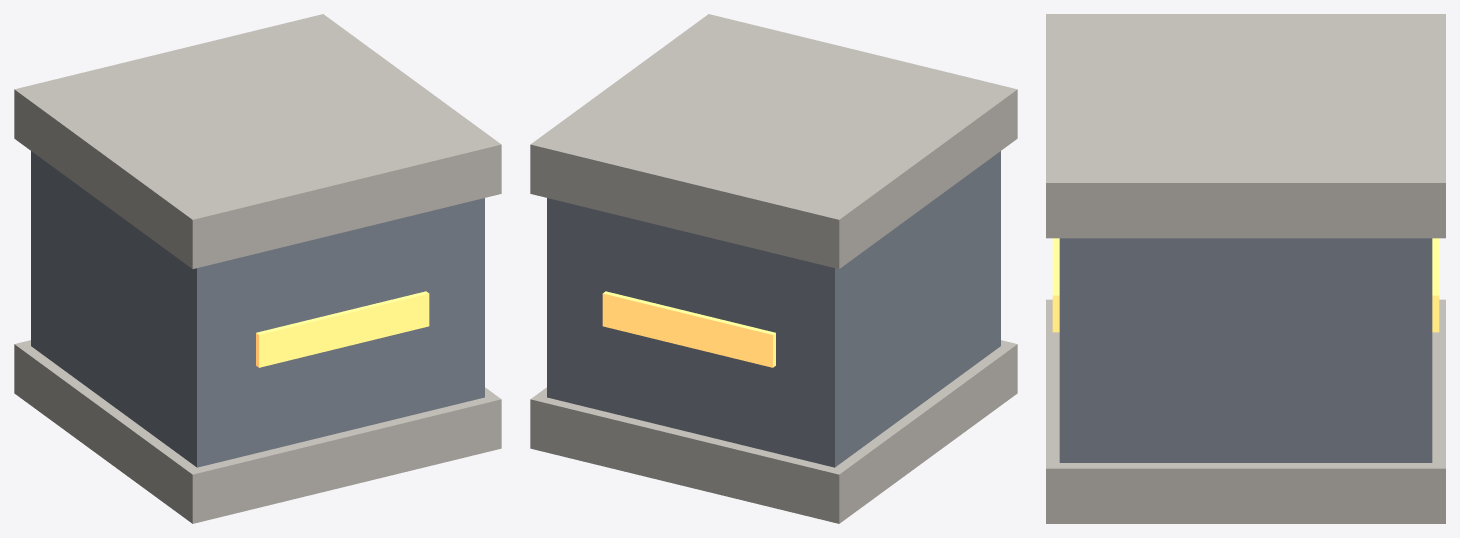
File: scifi_crate.glb
3 views of the same model, side by side, from view 1: azimuth 30°, elevation 25°; view 2: azimuth 150°, elevation 25°; view 3: azimuth 270°, elevation 25° (orthographic). The views are drawn at different scales.
Bounding box in the file's own units: 1.18 × 1.11 × 1.18.
